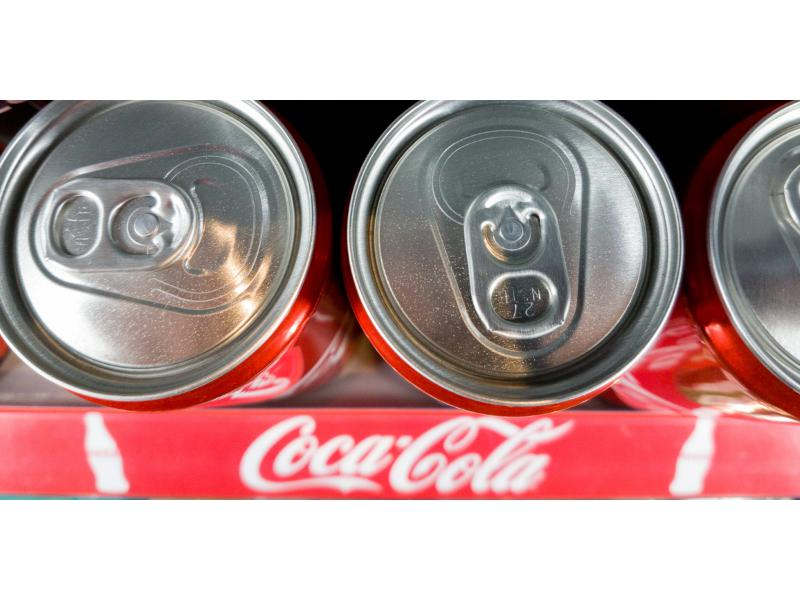can: (334, 98, 685, 416), (0, 99, 324, 408), (703, 98, 799, 416)
